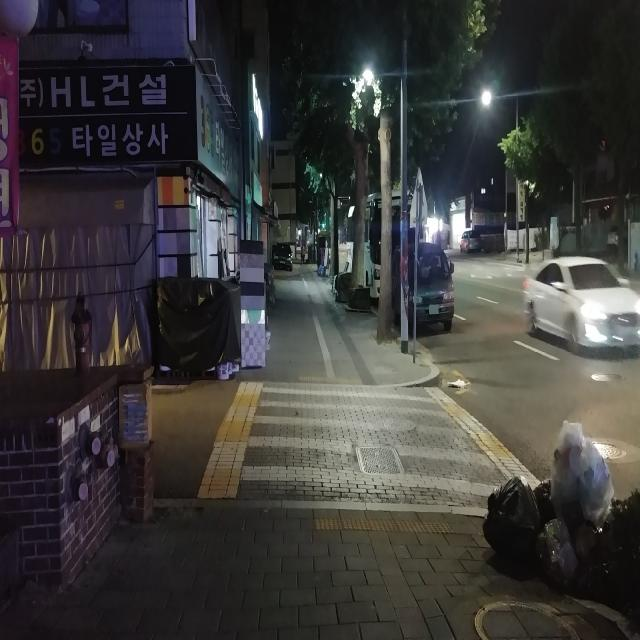횡단보도: (238, 383, 503, 498)
